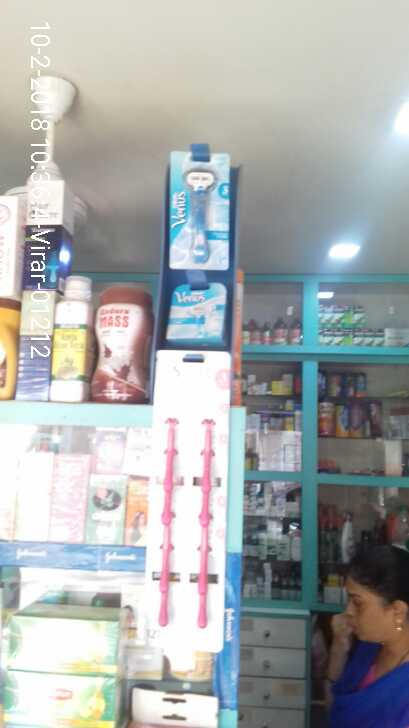venus: (166, 146, 227, 270), (167, 276, 228, 347)
